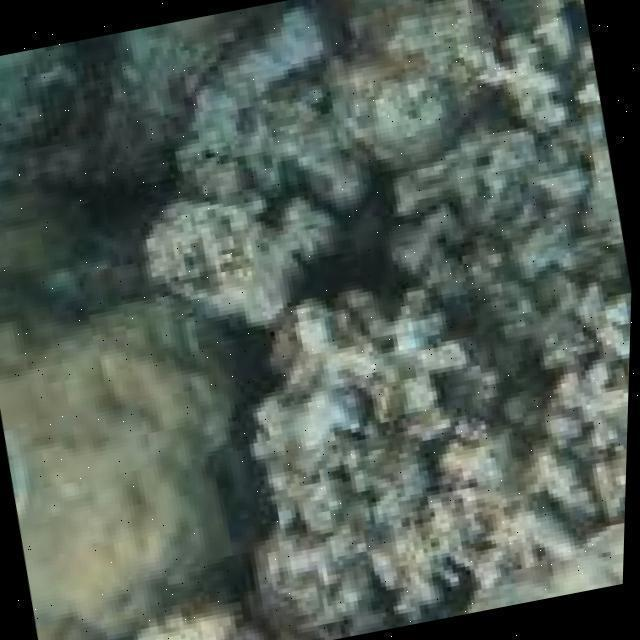Dead Coral: (252, 0, 592, 632)
